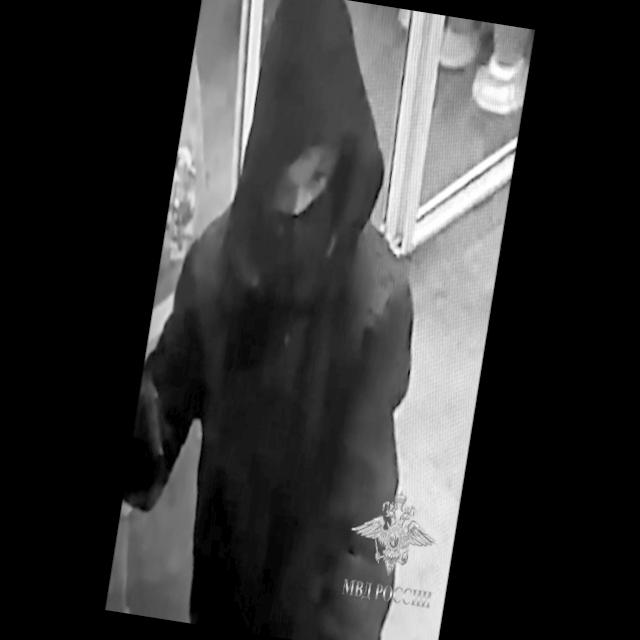gun: (122, 372, 184, 506)
person with a gun: (106, 0, 460, 640)
